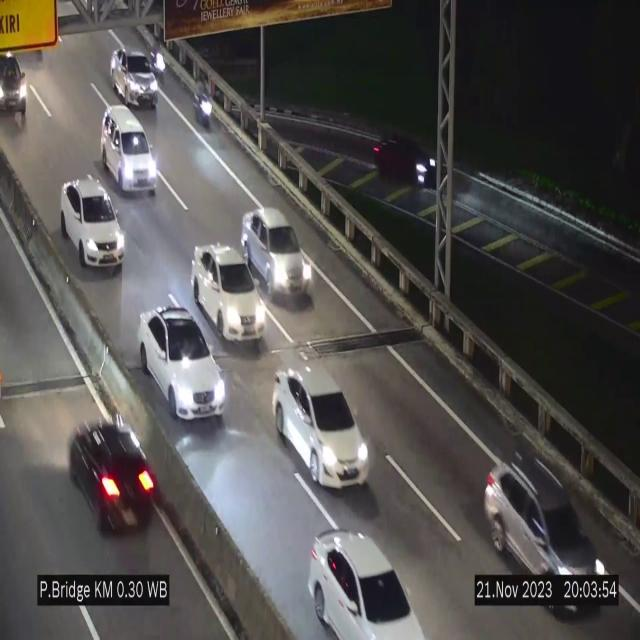Car: (482, 459, 616, 617), (64, 388, 162, 548), (308, 530, 426, 639), (274, 368, 371, 487), (138, 306, 226, 420), (193, 243, 265, 344), (241, 208, 311, 304), (61, 176, 125, 268), (369, 114, 439, 194), (100, 105, 158, 192), (111, 46, 158, 106), (0, 40, 31, 122)
Motorcycle: (193, 82, 215, 140), (152, 37, 168, 95)
